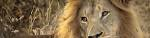lion: (54, 4, 138, 38)
